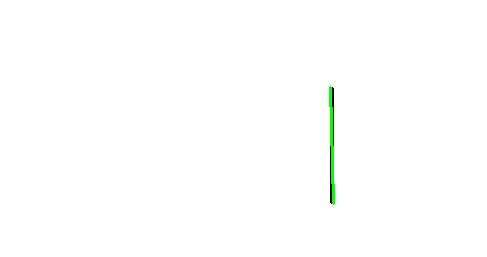line_segment: (329, 87, 335, 204)
